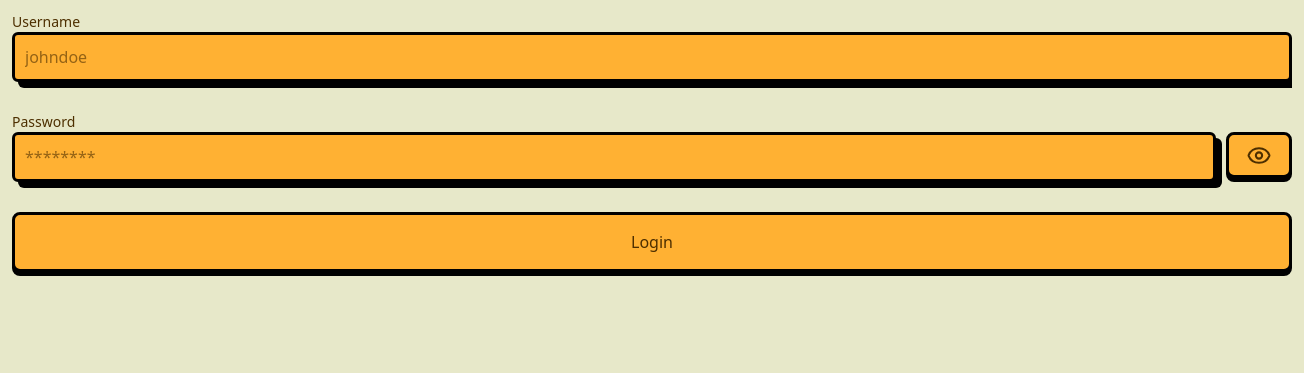
Test case: AuthForm › shows validation errors
Click the button "Login" at coordinates (652, 242), box [12,212,1292,272]
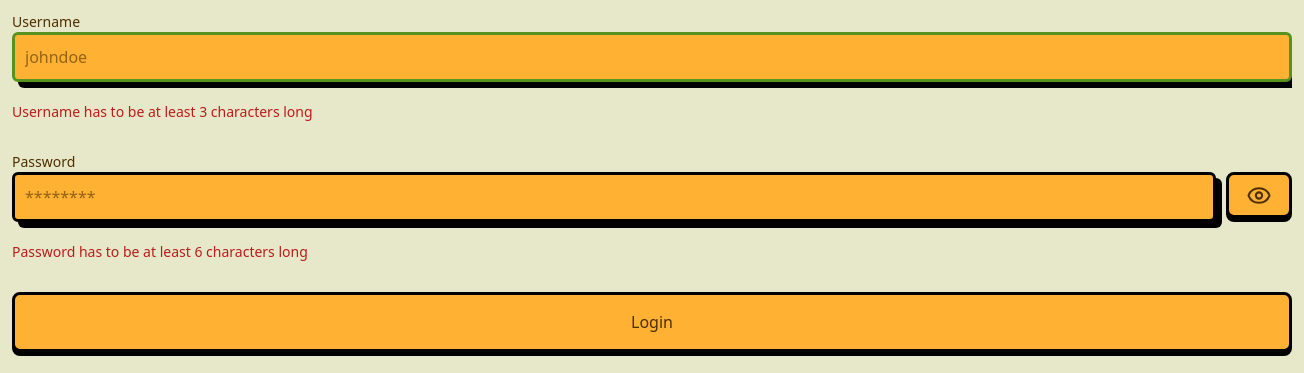
Check: the text "Username has to be at least 3 characters long" is shown, box [12,102,313,121]
Check: the text "Password has to be at least 6 characters long" is shown, box [12,242,308,261]
